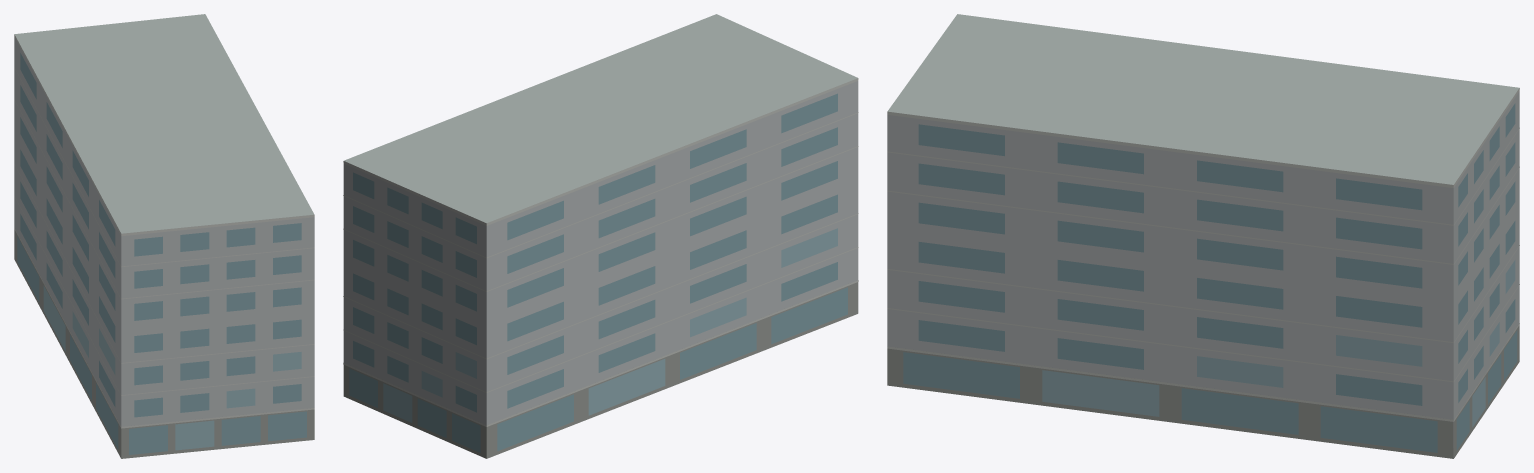
Rendered from survey-upis-32984865.glb.
3 renders of one model, left to right at view 1: azimuth 30°, elevation 25°; view 2: azimuth 150°, elevation 25°; view 3: azimuth 270°, elevation 25°, orthographic. The views are drawn at different scales.
Visible parts, largest first — view 1: survey-upis-32984865.tmp; view 2: survey-upis-32984865.tmp; view 3: survey-upis-32984865.tmp.
Boxes of the visible parts, x1,y1,x2,y2 form: survey-upis-32984865.tmp: (14,14,314,458); survey-upis-32984865.tmp: (343,14,858,458); survey-upis-32984865.tmp: (887,14,1519,458).
Bounding box in the file's own units: 28.13 × 21 × 43.96.
